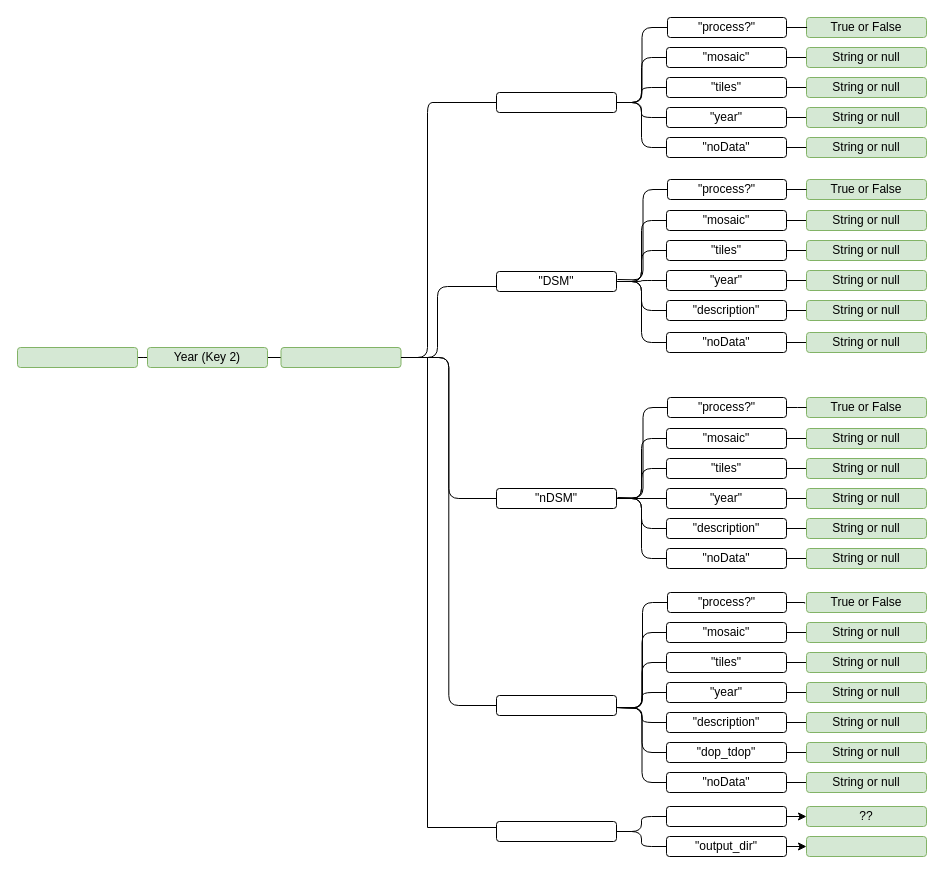
This 944x874 diagram has some shape labels left out. The shapes that lost their labels are listed below. From the top down, each one's centre as x and y in pixels, then its label:
(556,102): "DTM"
(77,357): City (Key 1)
(340,357): Description (Key 3)
(556,705): "Ortho"
(556,831): "METADATA"
(726,816): "README_name"
(866,846): String
